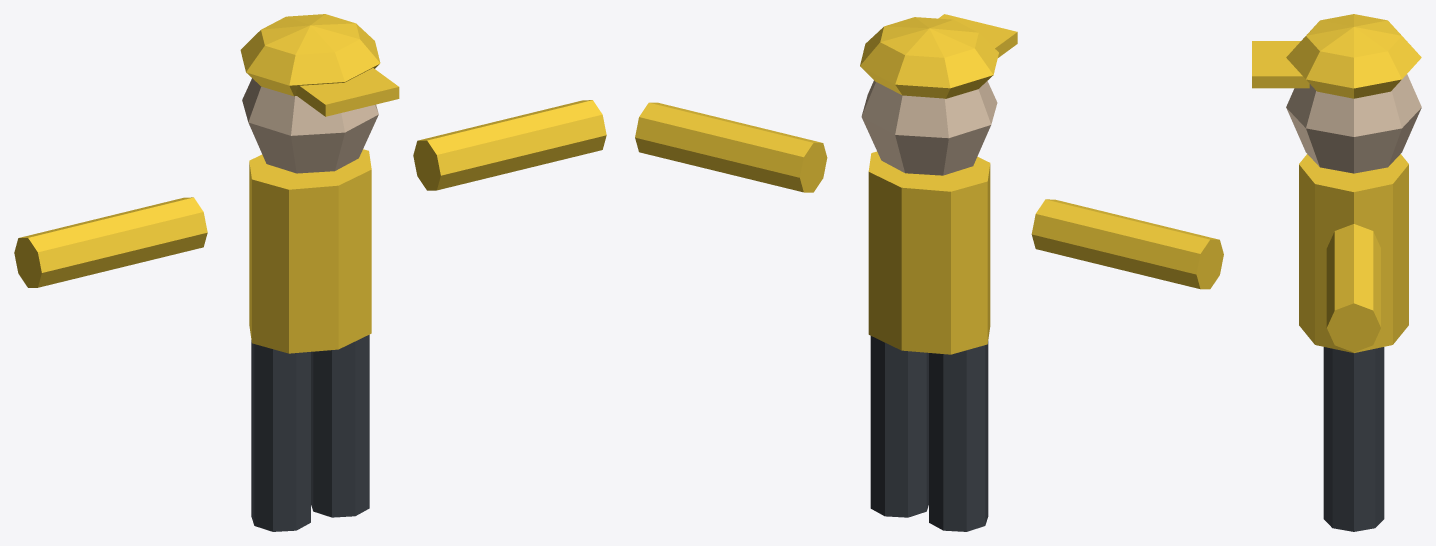
File: courier.glb
The picture shows the model from 3 angles, left to right: view 1: azimuth 30°, elevation 25°; view 2: azimuth 150°, elevation 25°; view 3: azimuth 270°, elevation 25°; orthographic projection.
Visible parts, largest first — view 1: courier; view 2: courier; view 3: courier.
Boxes of the visible parts, bbox=[...] form: courier: bbox=[14, 14, 606, 531]; courier: bbox=[635, 14, 1223, 531]; courier: bbox=[1252, 14, 1421, 531].
Bounding box in the file's own units: 2.06 × 1.7 × 0.547.
